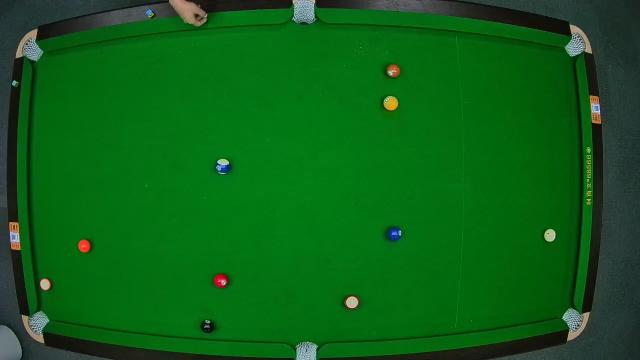bag1: (21, 40, 41, 61)
bag2: (291, 0, 317, 26)
bag3: (562, 33, 586, 57)
bag4: (28, 310, 48, 334)
bag5: (295, 340, 319, 360)
bag6: (562, 308, 584, 332)
ball0: (544, 228, 556, 242)
ball1: (383, 96, 399, 110)
ball10: (216, 157, 230, 175)
ball11: (344, 294, 360, 310)
ball12: (38, 277, 52, 291)
ball2: (386, 226, 402, 243)
ball3: (214, 274, 228, 288)
ball5: (77, 238, 91, 254)
ball7: (386, 64, 402, 78)
ball8: (200, 320, 216, 332)
